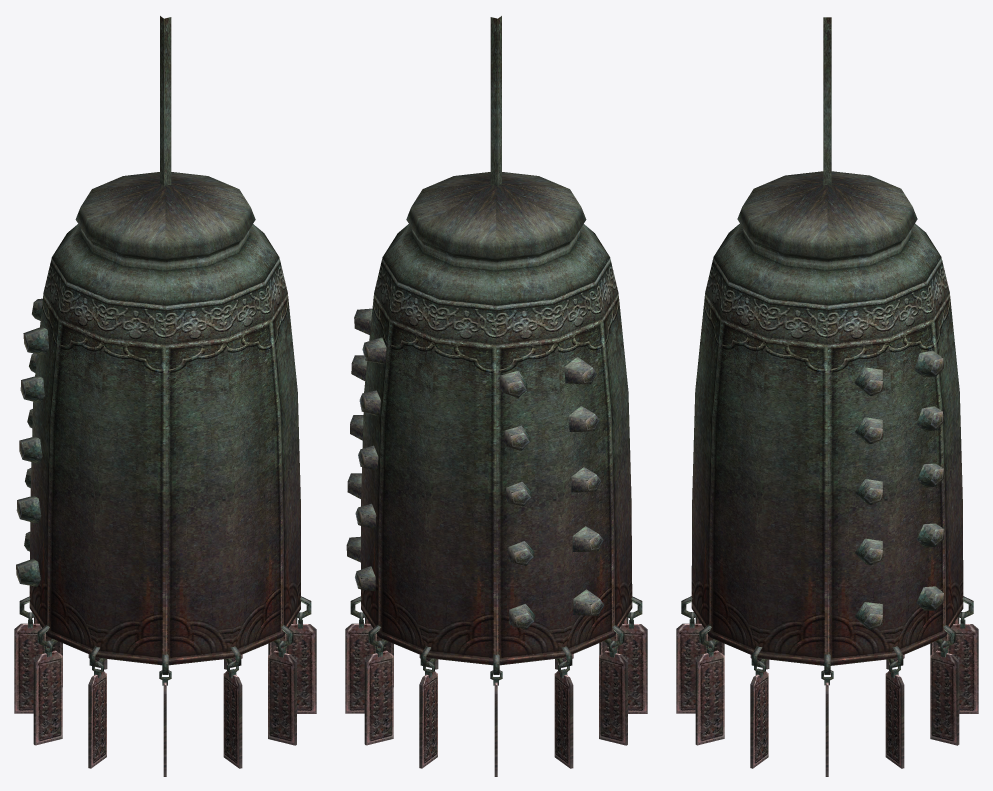
Rendered from dmw_bossroom_bell_02.glb.
3 views of the same model, side by side, from view 1: azimuth 30°, elevation 25°; view 2: azimuth 150°, elevation 25°; view 3: azimuth 270°, elevation 25° (orthographic).
Parts seen in each view (by area): view 1: dmw_boss_bell02; view 2: dmw_boss_bell02; view 3: dmw_boss_bell02.
Boxes of the visible parts, left/top/right/bottom form: dmw_boss_bell02: left=14, top=16, right=316, bottom=776; dmw_boss_bell02: left=345, top=16, right=647, bottom=776; dmw_boss_bell02: left=676, top=17, right=978, bottom=776.
Bounding box in the file's own units: 7.86 × 19.98 × 7.86.
Materials: 1 (1 with a texture image).
